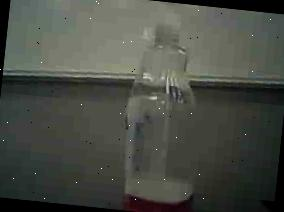hazard: (109, 0, 219, 212)
